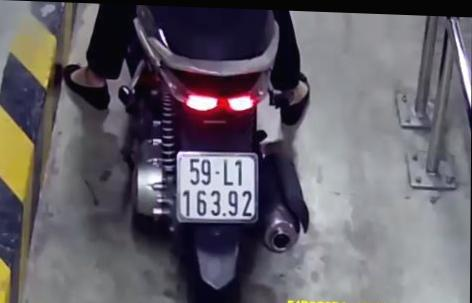License_Plate: (164, 144, 264, 230)
